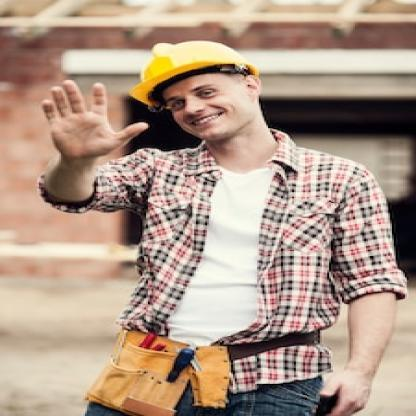stop: (40, 78, 154, 162)
